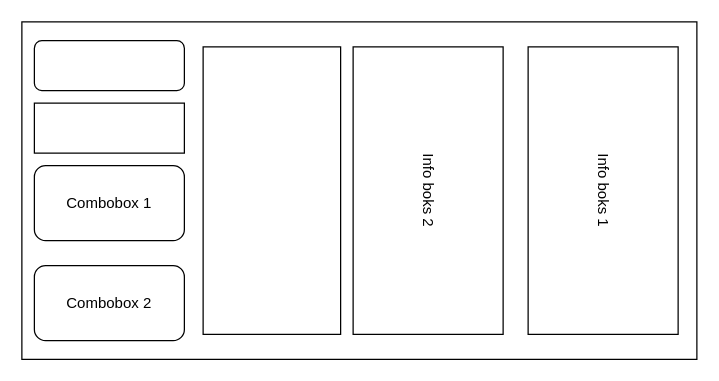
The diagram is 719 pixels wide and 381 high, and some of its shapes have lost their labels. The centre of each missing label's shape, as x and y in pixels:
"Entry CSv" belongs at (108,127).
"Tittel" belongs at (108,65).
